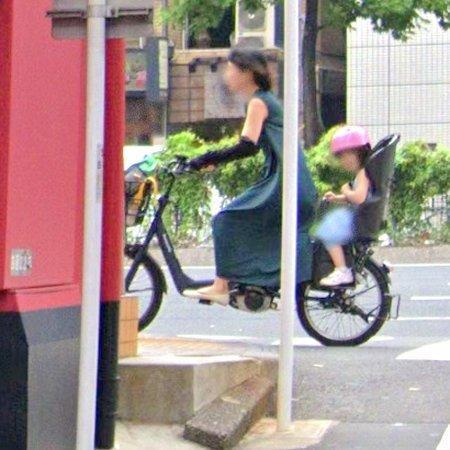bicycles: (125, 157, 212, 330), (297, 241, 401, 346), (230, 283, 279, 312)
